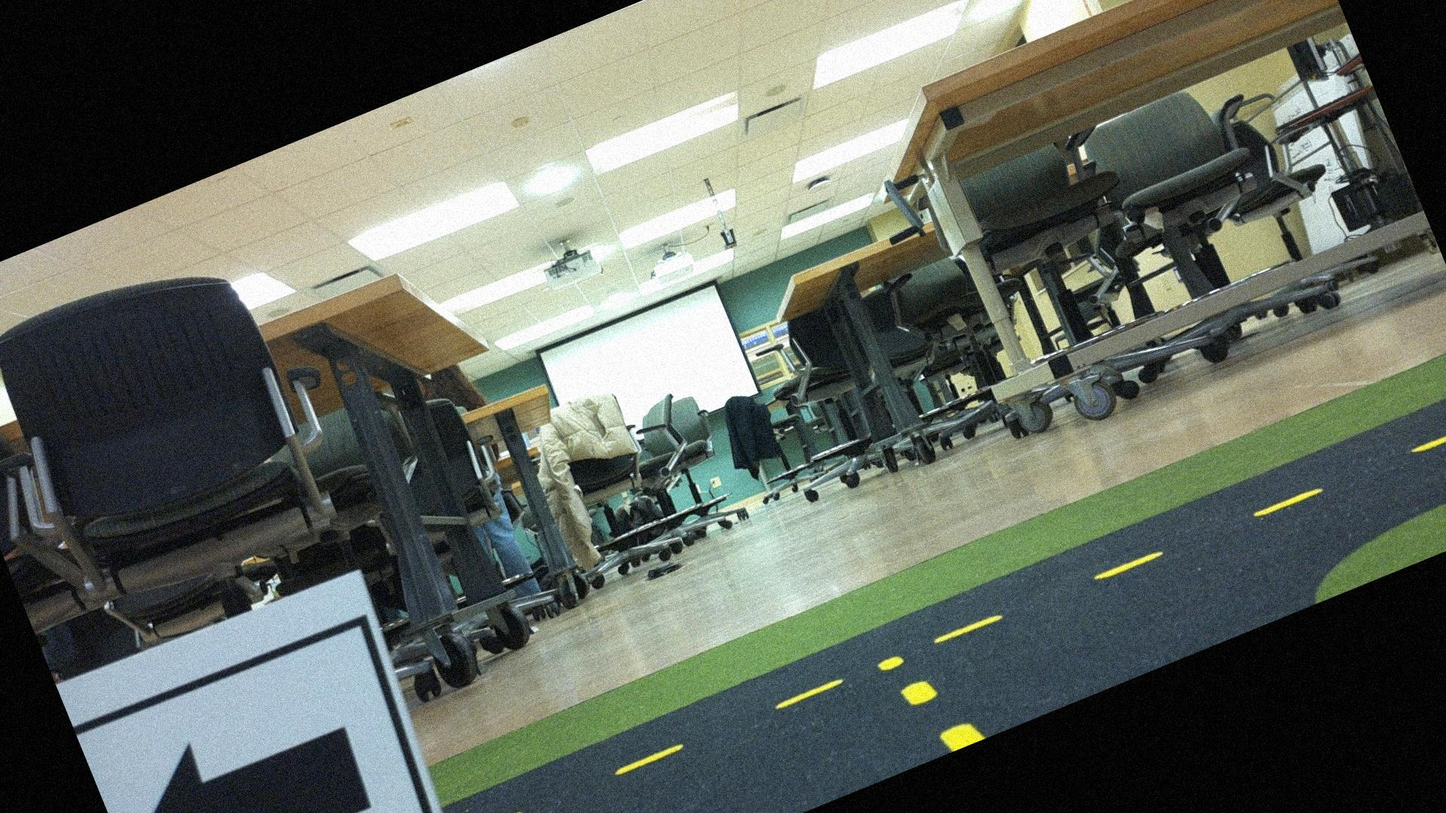turnleft: (59, 572, 484, 812)
yellowline: (473, 419, 1445, 812), (902, 668, 980, 760)
